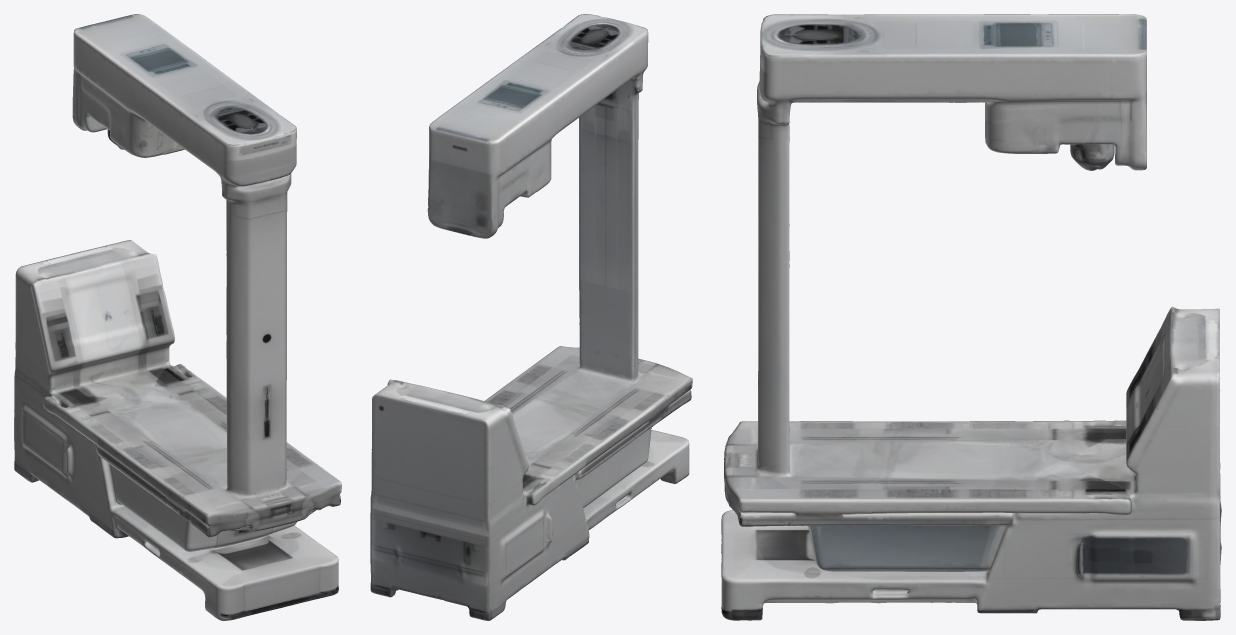
The model's file is x-ray_machine_free.glb.
The picture shows the model from 3 angles, left to right: view 1: azimuth 30°, elevation 25°; view 2: azimuth 150°, elevation 25°; view 3: azimuth 270°, elevation 25°; orthographic projection. The views are drawn at different scales.
Parts seen in each view (by area): view 1: Object_4; view 2: Object_4; view 3: Object_4.
Boxes of the visible parts, left/top/right/bottom form: Object_4: left=14, top=14, right=341, bottom=620; Object_4: left=370, top=14, right=692, bottom=620; Object_4: left=721, top=14, right=1221, bottom=620.
Size of the model in its own units: 0.6323 by 2.01 by 1.65.
Materials: 1 (1 with a texture image).
